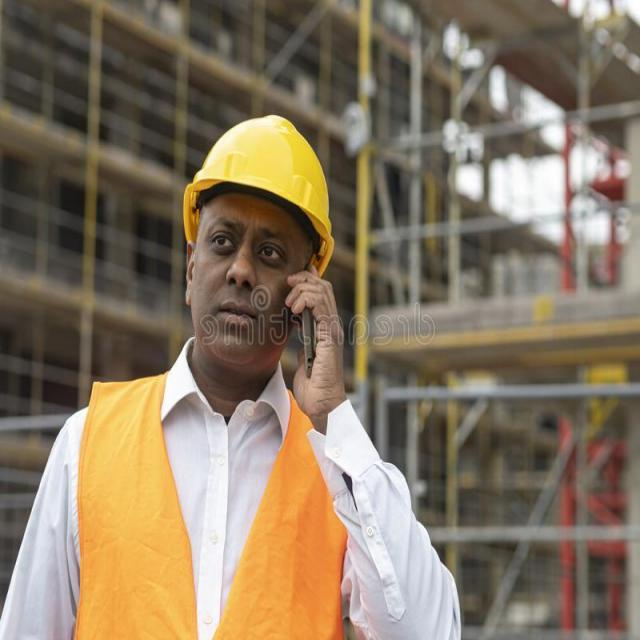Reflective-Jacket: (61, 370, 350, 640)
Safety-Helmet: (176, 110, 341, 246)
